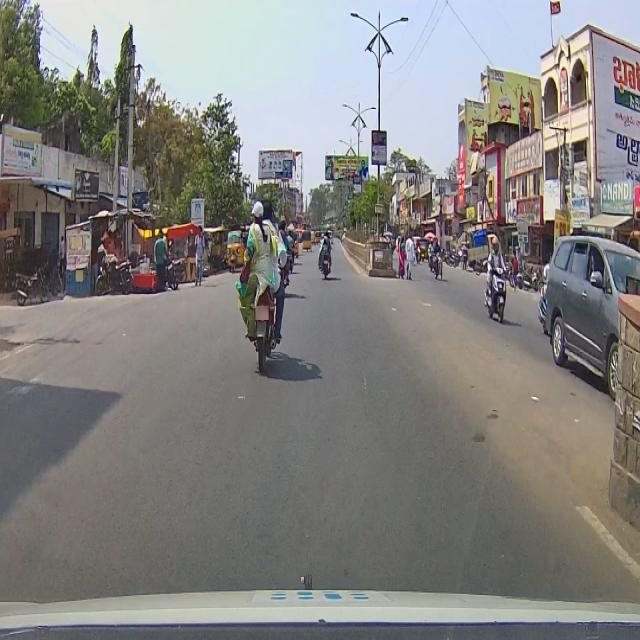motorcycle ahead at: (239, 284, 282, 370), (317, 222, 335, 289)
person ahead at: (153, 226, 170, 288)
